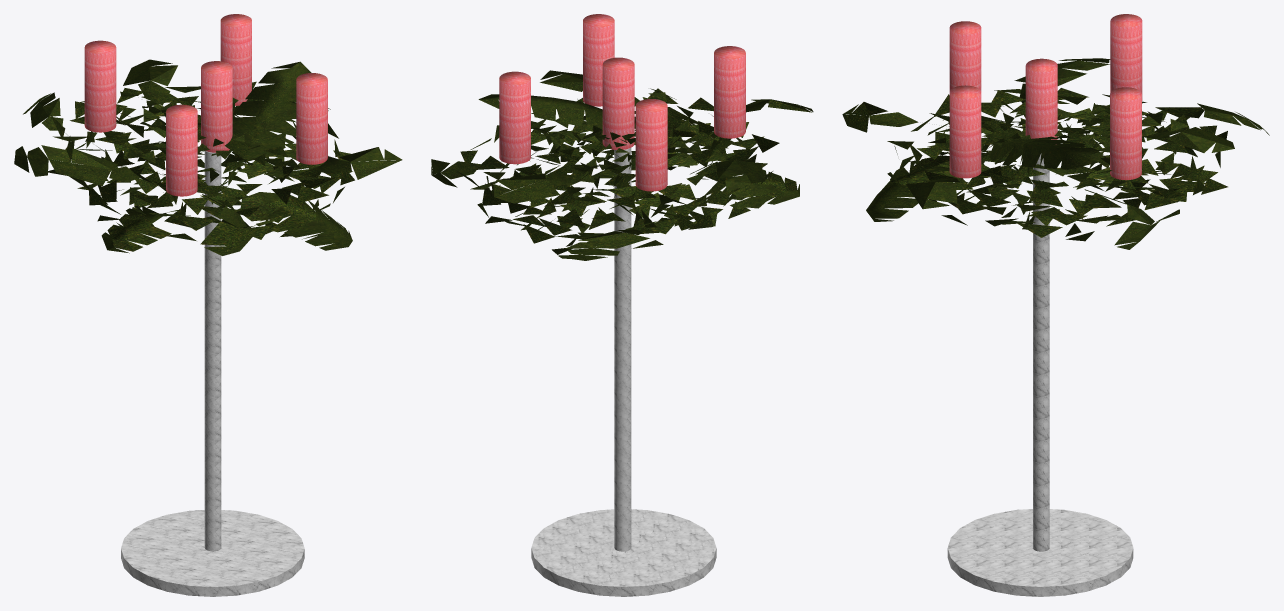
File: Componente_58.obj
The picture shows the model from 3 angles, left to right: view 1: azimuth 30°, elevation 25°; view 2: azimuth 150°, elevation 25°; view 3: azimuth 270°, elevation 25°; orthographic projection.
Visible parts, largest first — view 1: Mesh6 Componente_54_1 Componente_55_1 Model, Mesh377 Componente_56_1 Componente_55_1 Model, Mesh364 Componente_56_1 Componente_55_1 Model, Mesh1 Green_Candel1 Componente_57_1 Model, Mesh4 Green_Candel_1_2 Componente_57_1 Model, Mesh2 Green_Candel_1_1 Componente_57_1 Model, Mesh3 Green_Candel_2_1 Componente_57_1 Model, Mesh5 Green_Candel_1_3 Componente_57_1 Model, Mesh344 Componente_56_1 Componente_55_1 Model, Mesh350 Componente_56_1 Componente_55_1 Model, Mesh345 Componente_56_1 Componente_55_1 Model, Mesh380 Componente_56_1 Componente_55_1 Model (+1 smaller); view 2: Mesh6 Componente_54_1 Componente_55_1 Model, Mesh1 Green_Candel1 Componente_57_1 Model, Mesh4 Green_Candel_1_2 Componente_57_1 Model, Mesh5 Green_Candel_1_3 Componente_57_1 Model, Mesh3 Green_Candel_2_1 Componente_57_1 Model, Mesh2 Green_Candel_1_1 Componente_57_1 Model, Mesh377 Componente_56_1 Componente_55_1 Model, Mesh344 Componente_56_1 Componente_55_1 Model, Mesh349 Componente_56_1 Componente_55_1 Model, Mesh364 Componente_56_1 Componente_55_1 Model; view 3: Mesh6 Componente_54_1 Componente_55_1 Model, Mesh2 Green_Candel_1_1 Componente_57_1 Model, Mesh5 Green_Candel_1_3 Componente_57_1 Model, Mesh377 Componente_56_1 Componente_55_1 Model, Mesh3 Green_Candel_2_1 Componente_57_1 Model, Mesh1 Green_Candel1 Componente_57_1 Model, Mesh364 Componente_56_1 Componente_55_1 Model, Mesh4 Green_Candel_1_2 Componente_57_1 Model.
Part boxes in pixels (bbox=[...]): Mesh6 Componente_54_1 Componente_55_1 Model: bbox=[121, 151, 304, 596]; Mesh377 Componente_56_1 Componente_55_1 Model: bbox=[221, 61, 311, 185]; Mesh364 Componente_56_1 Componente_55_1 Model: bbox=[220, 192, 352, 250]; Mesh1 Green_Candel1 Componente_57_1 Model: bbox=[84, 40, 116, 132]; Mesh4 Green_Candel_1_2 Componente_57_1 Model: bbox=[166, 104, 197, 196]; Mesh2 Green_Candel_1_1 Componente_57_1 Model: bbox=[296, 73, 327, 164]; Mesh3 Green_Candel_2_1 Componente_57_1 Model: bbox=[201, 61, 232, 152]; Mesh5 Green_Candel_1_3 Componente_57_1 Model: bbox=[220, 14, 251, 105]; Mesh344 Componente_56_1 Componente_55_1 Model: bbox=[101, 205, 171, 253]; Mesh350 Componente_56_1 Componente_55_1 Model: bbox=[49, 159, 111, 186]; Mesh345 Componente_56_1 Componente_55_1 Model: bbox=[200, 221, 236, 245]; Mesh380 Componente_56_1 Componente_55_1 Model: bbox=[350, 160, 401, 179]; Mesh6 Componente_54_1 Componente_55_1 Model: bbox=[531, 148, 716, 596]; Mesh1 Green_Candel1 Componente_57_1 Model: bbox=[635, 99, 667, 191]; Mesh4 Green_Candel_1_2 Componente_57_1 Model: bbox=[714, 46, 745, 138]; Mesh5 Green_Candel_1_3 Componente_57_1 Model: bbox=[499, 71, 530, 164]; Mesh3 Green_Candel_2_1 Componente_57_1 Model: bbox=[602, 57, 634, 149]; Mesh2 Green_Candel_1_1 Componente_57_1 Model: bbox=[583, 14, 614, 106]; Mesh377 Componente_56_1 Componente_55_1 Model: bbox=[478, 94, 634, 130]; Mesh344 Componente_56_1 Componente_55_1 Model: bbox=[705, 169, 799, 204]; Mesh349 Componente_56_1 Componente_55_1 Model: bbox=[494, 179, 559, 203]; Mesh364 Componente_56_1 Componente_55_1 Model: bbox=[634, 107, 698, 141]; Mesh6 Componente_54_1 Componente_55_1 Model: bbox=[947, 153, 1133, 596]; Mesh2 Green_Candel_1_1 Componente_57_1 Model: bbox=[949, 85, 981, 178]; Mesh5 Green_Candel_1_3 Componente_57_1 Model: bbox=[1110, 87, 1141, 180]; Mesh377 Componente_56_1 Componente_55_1 Model: bbox=[988, 136, 1103, 169]; Mesh3 Green_Candel_2_1 Componente_57_1 Model: bbox=[1025, 58, 1057, 144]; Mesh1 Green_Candel1 Componente_57_1 Model: bbox=[1110, 14, 1142, 100]; Mesh364 Componente_56_1 Componente_55_1 Model: bbox=[866, 155, 960, 221]; Mesh4 Green_Candel_1_2 Componente_57_1 Model: bbox=[949, 21, 981, 90].
Size of the model in its own units: 0.888 by 1.31 by 1.01.
5 materials, 5 textured.
